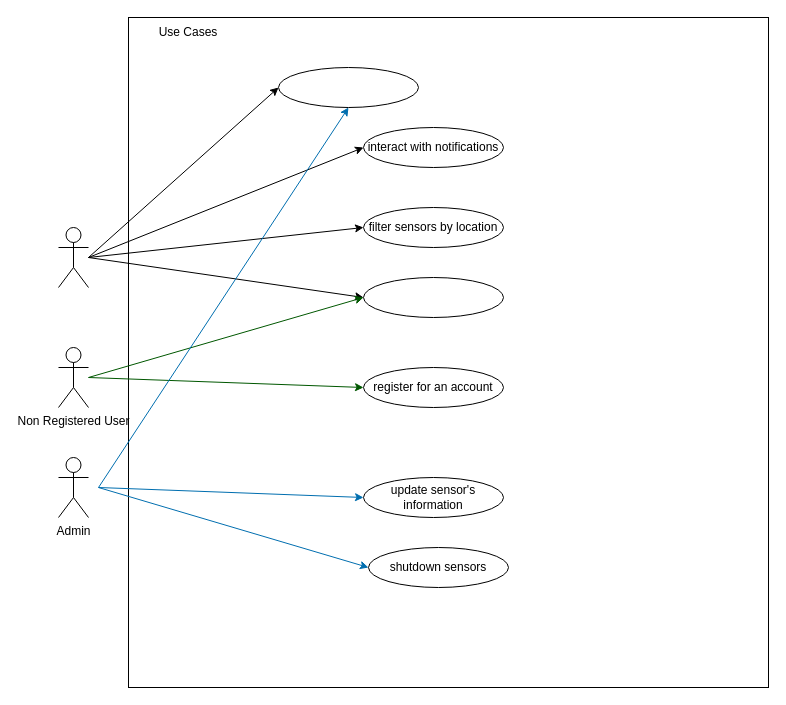
Some shapes in this 786 by 705 pixel diagram are drawn without their labels. The shapes that lost their labels are listed below. From the top down, each one's box as (x1, y1, x2, y2) in pixels, then its label:
(278, 66, 418, 108): log in
(58, 226, 88, 288): Registered User
(362, 276, 504, 318): explore sensor's detections
